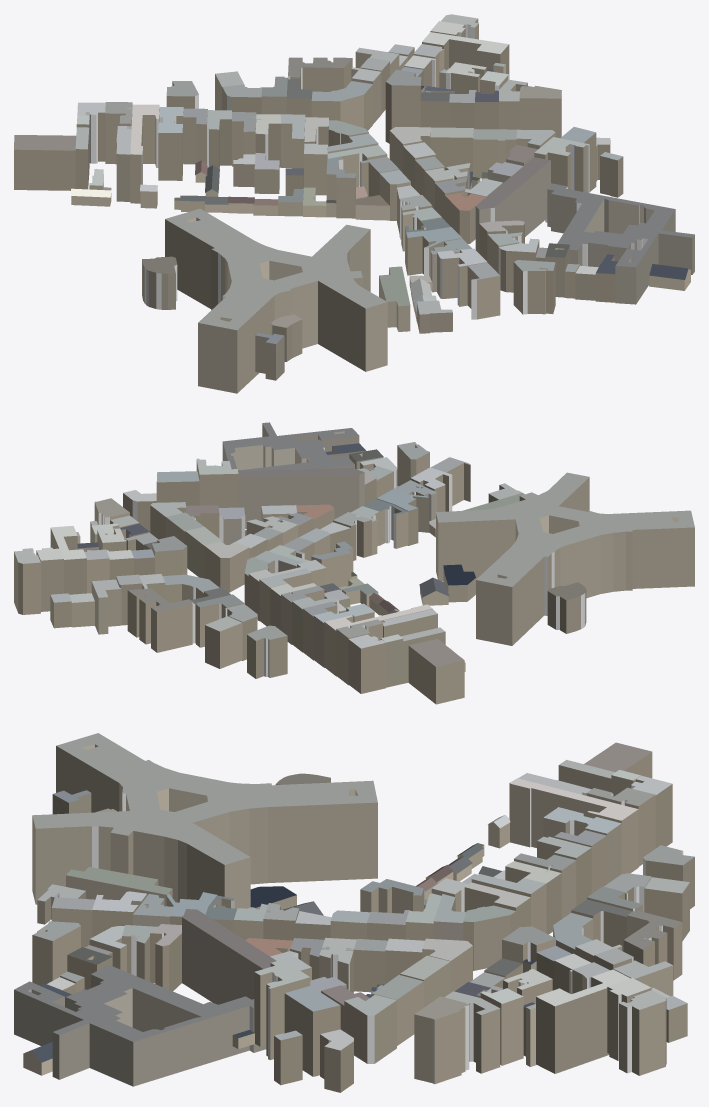
3 views of the same model, one above another, from view 1: azimuth 30°, elevation 25°; view 2: azimuth 150°, elevation 25°; view 3: azimuth 270°, elevation 25° (orthographic). The views are drawn at different scales.
Parts seen in each view (by area): view 1: tuile; view 2: tuile; view 3: tuile.
Boxes of the visible parts, left/top/right/bottom form: tuile: left=14, top=14, right=694, bottom=393; tuile: left=14, top=422, right=694, bottom=704; tuile: left=14, top=733, right=694, bottom=1092.
Size of the model in its own units: 285 by 44.01 by 273.
